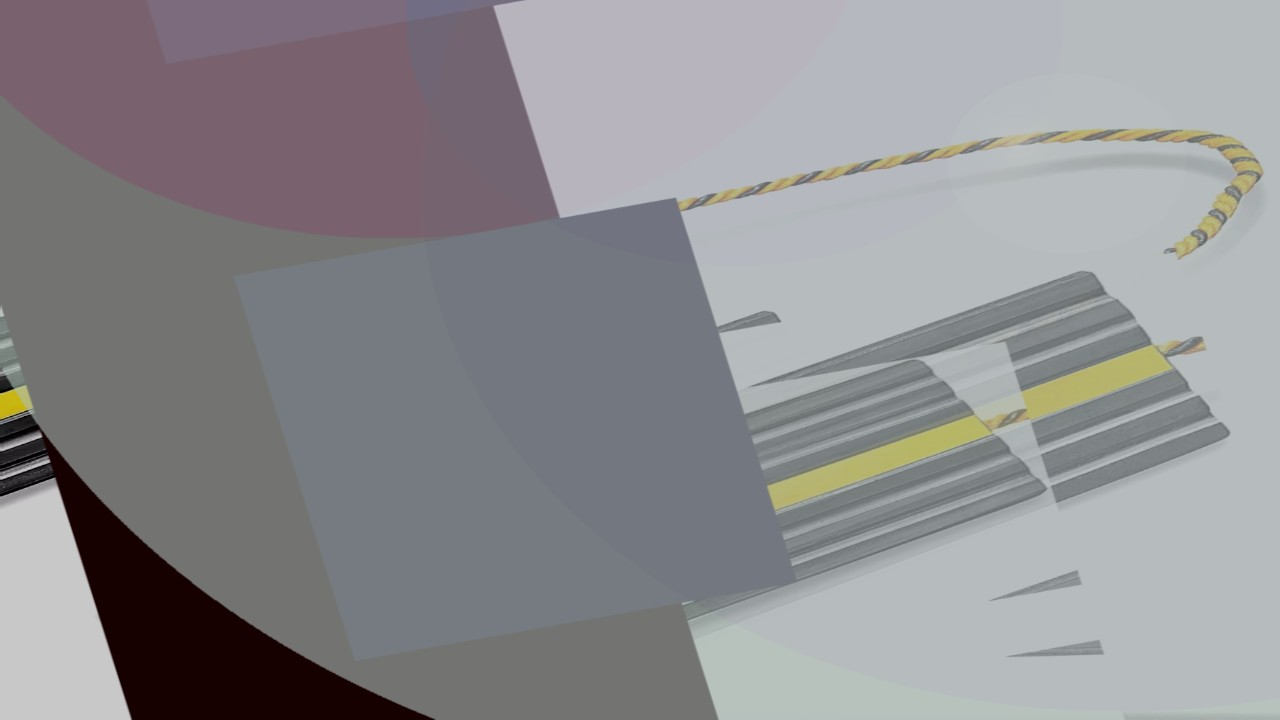chock: (285, 252, 1273, 720), (35, 294, 940, 720), (292, 342, 1081, 711), (0, 216, 420, 567)
